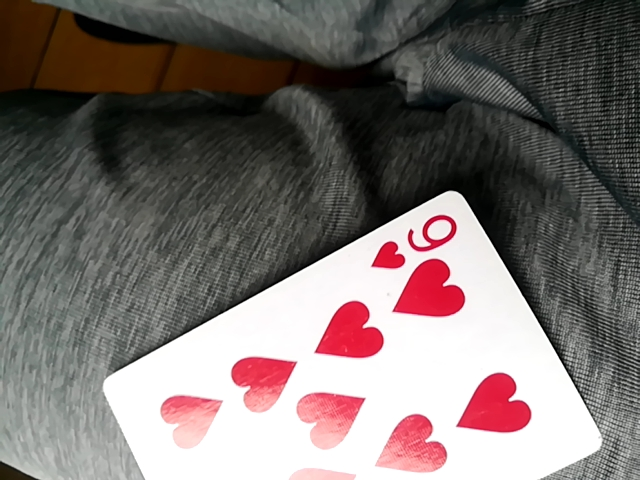hx 9: (118, 182, 604, 480)
